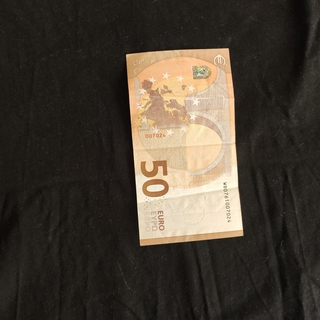50EUROBack: (124, 46, 245, 248)
